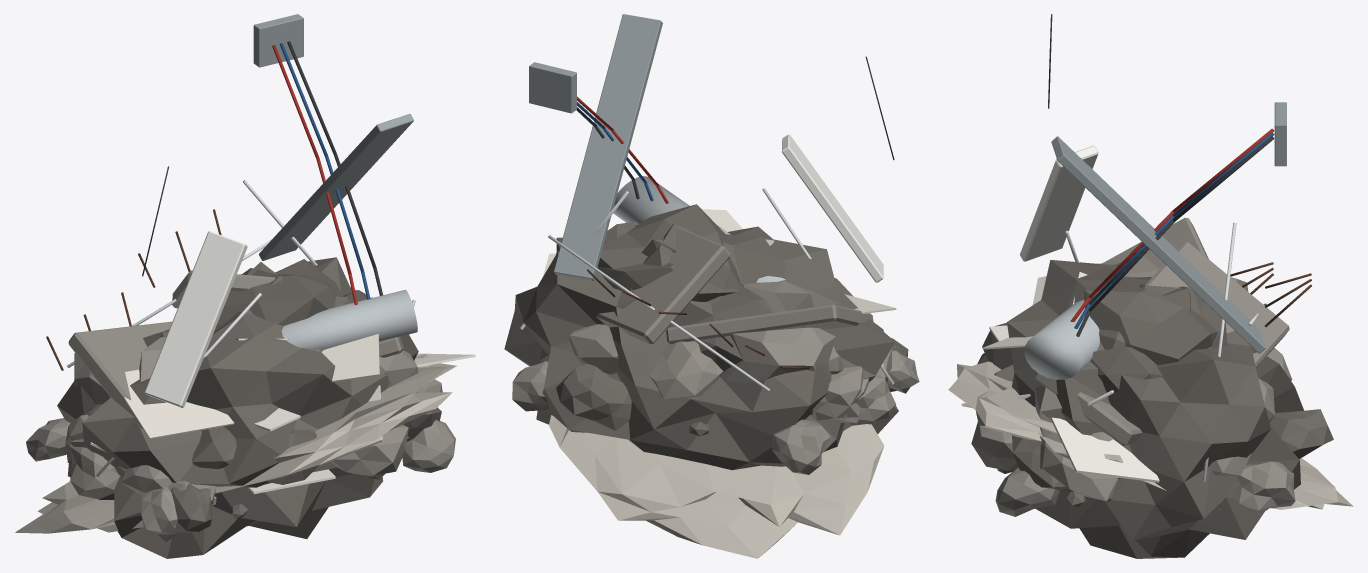
Rendered from ceiling_collapse.glb.
3 views of the same model, side by side, from view 1: azimuth 30°, elevation 25°; view 2: azimuth 150°, elevation 25°; view 3: azimuth 270°, elevation 25° (orthographic). The views are drawn at different scales.
Parts seen in each view (by area): view 1: Collapse_core, Collapse_skirt, Collapse_fitting, Collapse_duct, Collapse_tray, Collapse_rock15, Collapse_slab0, Collapse_plaster1, Collapse_bracket, Collapse_rock23, Collapse_rock29, Collapse_plaster2 (+12 smaller); view 2: Collapse_core, Collapse_skirt, Collapse_tray, Collapse_slab2, Collapse_rock5, Collapse_rock15, Collapse_slab0, Collapse_rock24, Collapse_rock4, Collapse_fitting, Collapse_rock7, Collapse_duct (+9 smaller); view 3: Collapse_core, Collapse_rock15, Collapse_skirt, Collapse_tray, Collapse_duct, Collapse_fitting, Collapse_slab2, Collapse_tile5, Collapse_rock22, Collapse_rock20, Collapse_rock24, Collapse_rock12 (+13 smaller).
Part boxes in pixels (box(x1,y1,x2,y2)): Collapse_core: box(57, 257, 418, 558); Collapse_skirt: box(15, 354, 456, 533); Collapse_fitting: box(144, 231, 247, 407); Collapse_duct: box(281, 289, 417, 349); Collapse_tray: box(259, 114, 413, 260); Collapse_rock15: box(214, 259, 343, 330); Collapse_slab0: box(68, 321, 172, 428); Collapse_plaster1: box(124, 369, 234, 439); Collapse_bracket: box(253, 14, 303, 67); Collapse_rock23: box(331, 424, 408, 475); Collapse_rock29: box(402, 420, 455, 472); Collapse_plaster2: box(321, 334, 379, 382); Collapse_core: box(504, 222, 898, 470); Collapse_skirt: box(549, 415, 884, 558); Collapse_tray: box(553, 14, 662, 280); Collapse_slab2: box(596, 227, 729, 344); Collapse_rock5: box(725, 327, 835, 383); Collapse_rock15: box(598, 204, 741, 304); Collapse_slab0: box(666, 304, 873, 344); Collapse_rock24: box(556, 363, 631, 430); Collapse_rock4: box(650, 341, 722, 399); Collapse_fitting: box(782, 134, 883, 282); Collapse_rock7: box(772, 419, 830, 474); Collapse_duct: box(613, 176, 785, 282); Collapse_core: box(982, 260, 1303, 558); Collapse_rock15: box(1084, 277, 1218, 365); Collapse_skirt: box(948, 361, 1353, 509); Collapse_tray: box(1051, 136, 1265, 353); Collapse_duct: box(1024, 275, 1131, 379); Collapse_fitting: box(1020, 145, 1098, 261); Collapse_slab2: box(1145, 241, 1289, 367); Collapse_tile5: box(1051, 417, 1159, 482); Collapse_rock22: box(1233, 461, 1295, 510); Collapse_rock20: box(1040, 432, 1120, 501); Collapse_rock24: box(1269, 409, 1333, 458); Collapse_rock12: box(1090, 346, 1162, 397).
Bounding box in the file's own units: 3.06 × 3.41 × 2.66.
